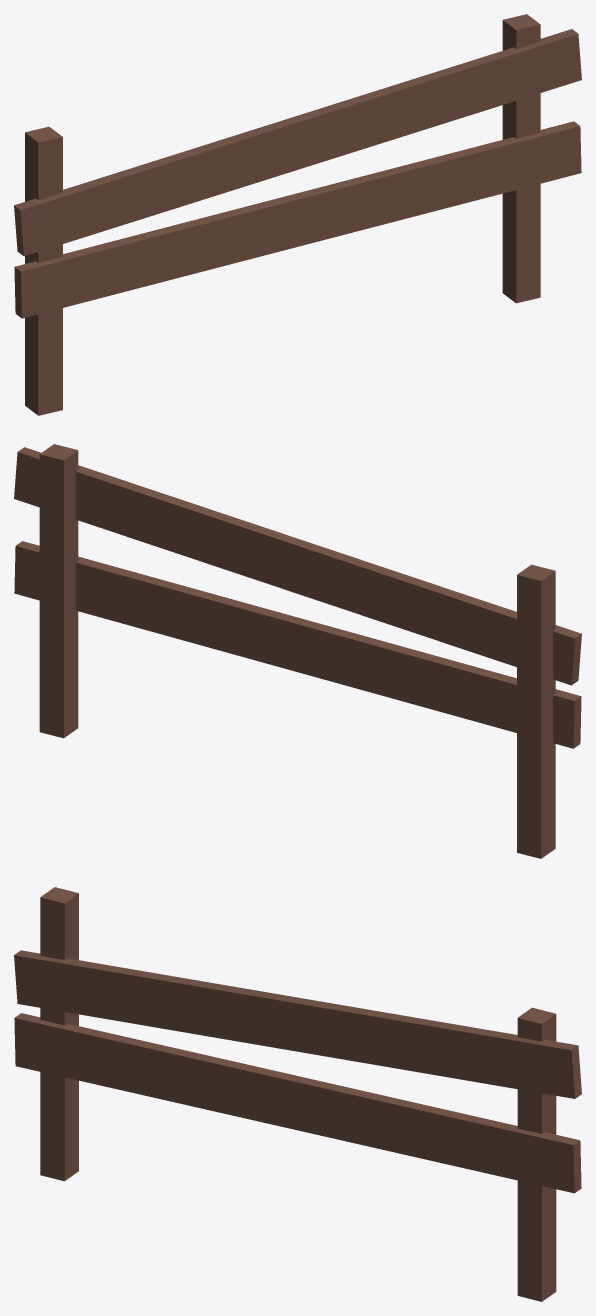
Rendered from props_014.glb.
3 views of the same model, one above another, from view 1: azimuth 30°, elevation 25°; view 2: azimuth 150°, elevation 25°; view 3: azimuth 330°, elevation 25° (orthographic).
Parts seen in each view (by area): view 1: props_014; view 2: props_014; view 3: props_014.
Part boxes in pixels (x1,y1,x2,y2): props_014: (14,14,581,415); props_014: (14,444,581,858); props_014: (14,887,581,1301).
Size of the model in its own units: 4.31 by 2.02 by 0.305.
Materials: 1 (1 with a texture image).
